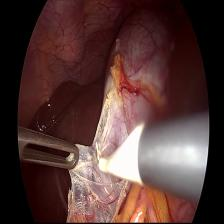Grasper: (18, 124, 80, 175)
Hook: (93, 124, 154, 189)
